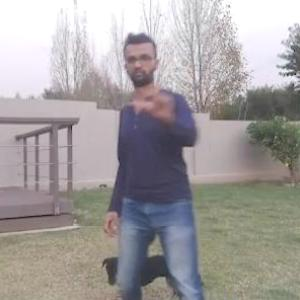land_hand: (132, 67, 179, 118)
